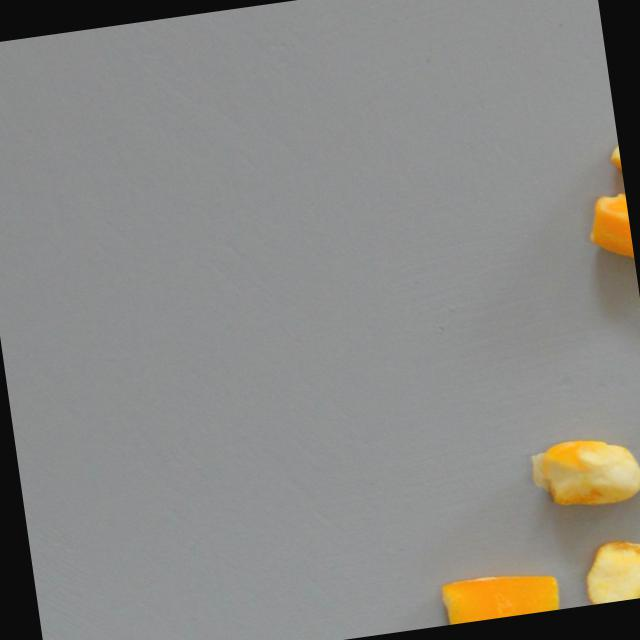pelicula: (526, 428, 640, 517), (437, 568, 562, 626), (582, 192, 637, 285), (580, 538, 640, 606), (605, 129, 629, 218)
